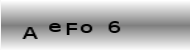6: (106, 20, 120, 34)
A: (21, 25, 38, 41)
F: (64, 22, 78, 36)
e: (47, 22, 61, 33)
o: (80, 23, 92, 34)
